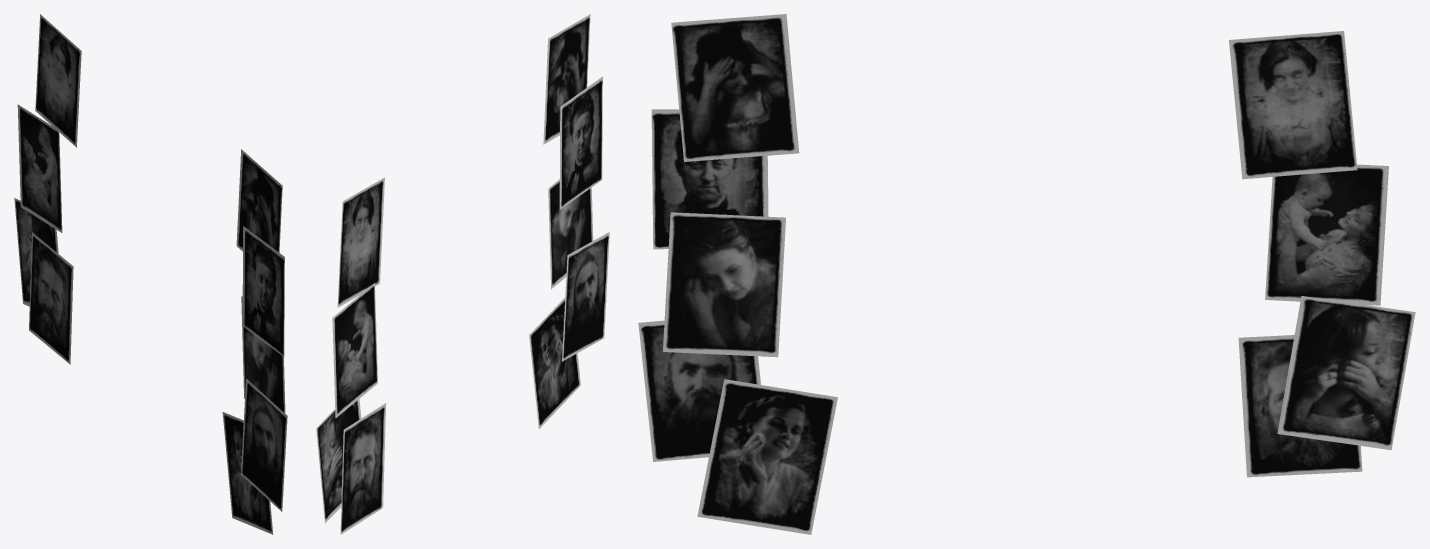
The model's file is mirror_photos_02.DAE.
The picture shows the model from 3 angles, left to right: view 1: azimuth 30°, elevation 25°; view 2: azimuth 150°, elevation 25°; view 3: azimuth 270°, elevation 25°; orthographic projection. The views are drawn at different scales.
Parts seen in each view (by area): view 1: Object049; view 2: Object049; view 3: Object049.
Part boxes in pixels (left/top/right/bottom): Object049: left=14, top=14, right=287, bottom=534; Object049: left=316, top=14, right=609, bottom=534; Object049: left=638, top=14, right=1415, bottom=534.
Bounding box in the file's own units: 0.0168 × 0.869 × 1.18.
